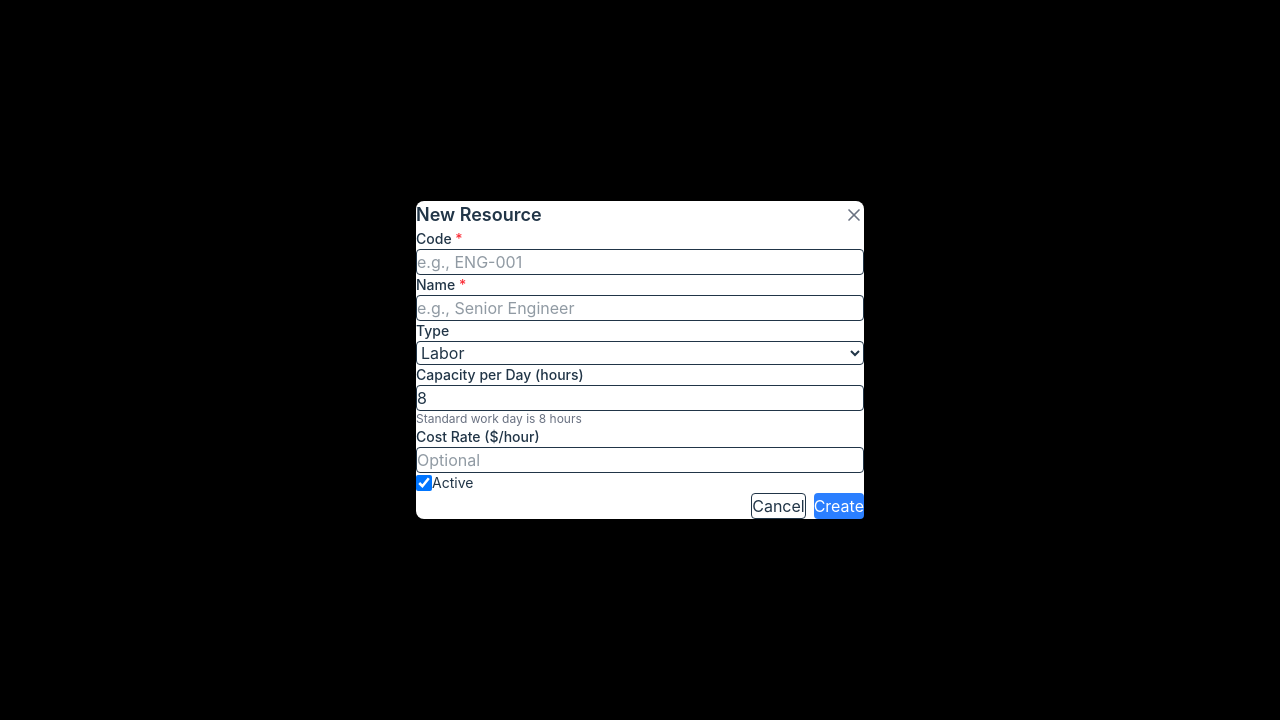
Test case: ResourceForm › shows error toast on create failure
The width and height of the screenshot is (1280, 720).
In the field with placeholder "e.g., ENG-001": (640, 262) [416,249,864,275], type "ENG-002"
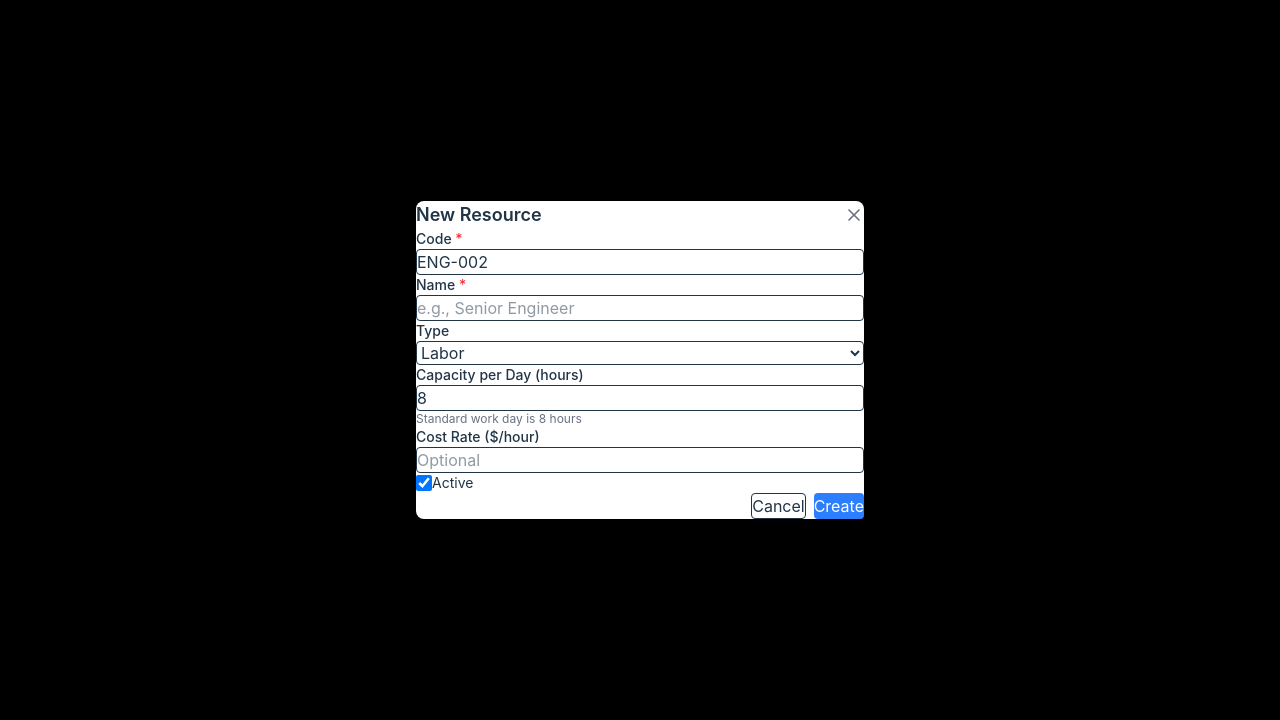
In the field with placeholder "e.g., Senior Engineer": (640, 308) [416,295,864,321], type "Test"
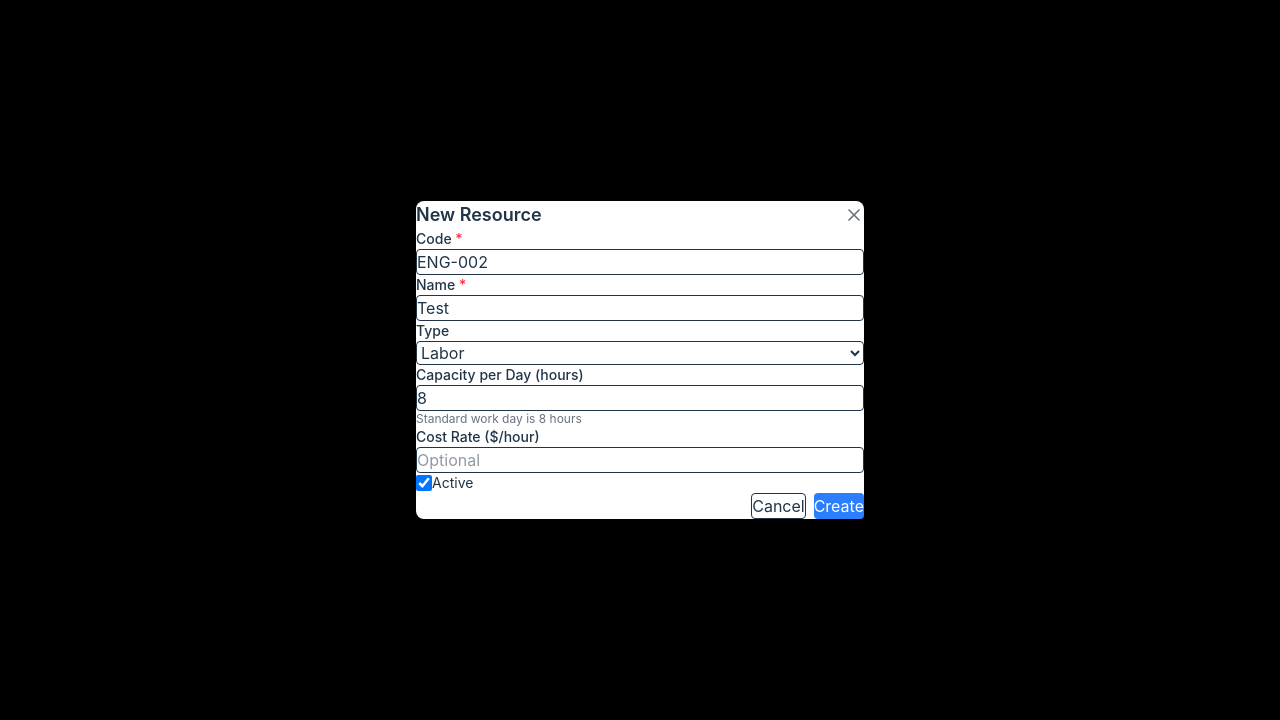
Click the button "Create": (839, 506) [814,493,864,519]
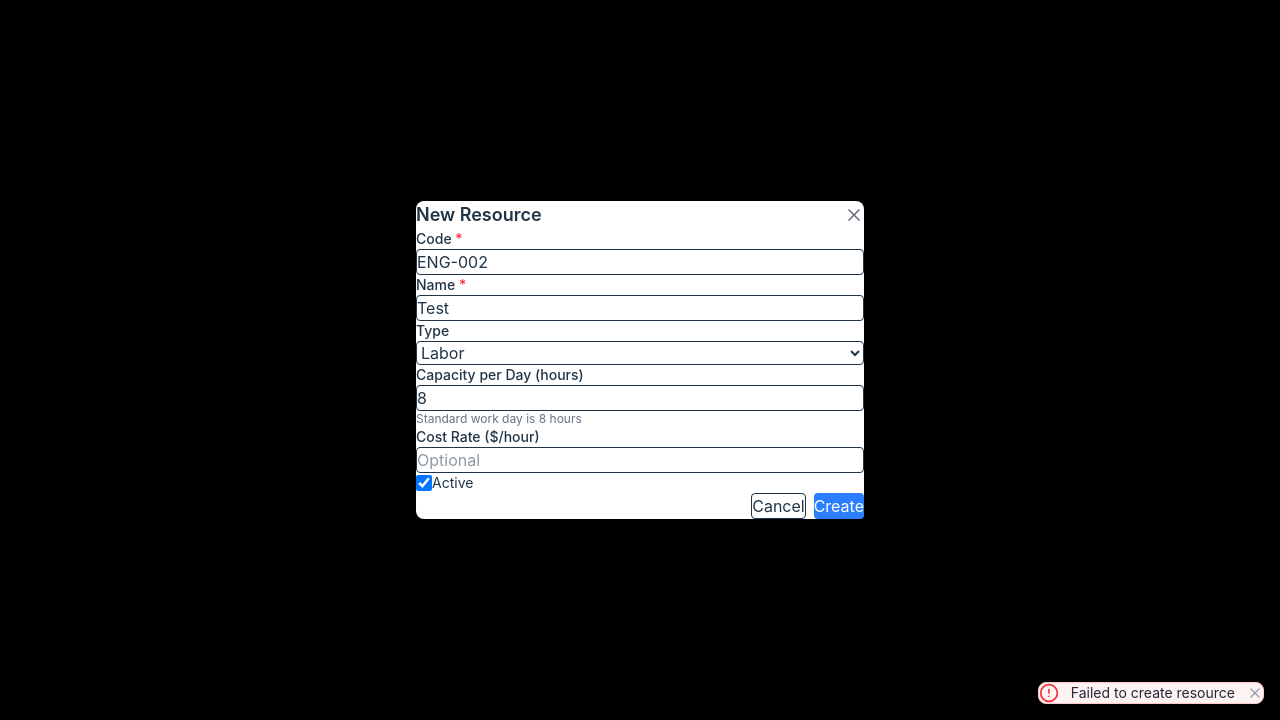
expect the text "Failed to create resource" is shown: met, box [1071,683,1235,703]
